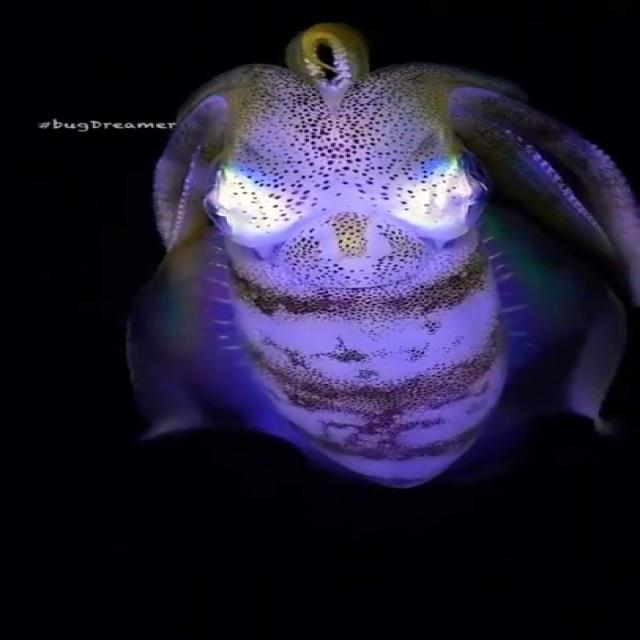squid: (118, 26, 640, 490)
